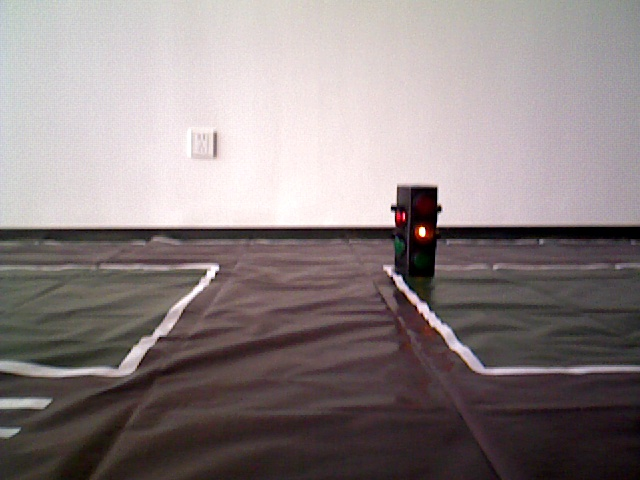yellow: (393, 185, 436, 275)
